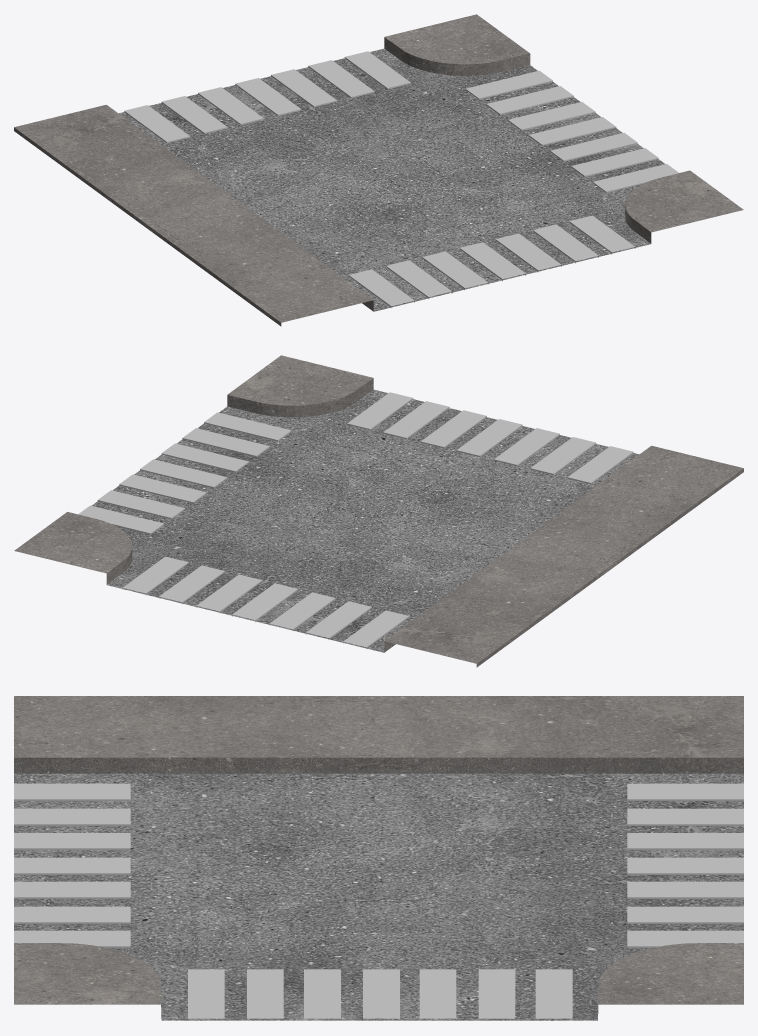
The model's file is 3way_street.fbx.
The picture shows the model from 3 angles, top to bottom: view 1: azimuth 30°, elevation 25°; view 2: azimuth 150°, elevation 25°; view 3: azimuth 270°, elevation 25°; orthographic projection. The views are drawn at different scales.
Parts seen in each view (by area): view 1: Street_3way; view 2: Street_3way; view 3: Street_3way.
Part boxes in pixels (x1,y1,x2,y2): Street_3way: (14, 14, 743, 326); Street_3way: (14, 355, 743, 667); Street_3way: (14, 696, 743, 1020).
Bounding box in the file's own units: 10 × 10 × 0.2605.
Materials: 3 (2 with a texture image).
